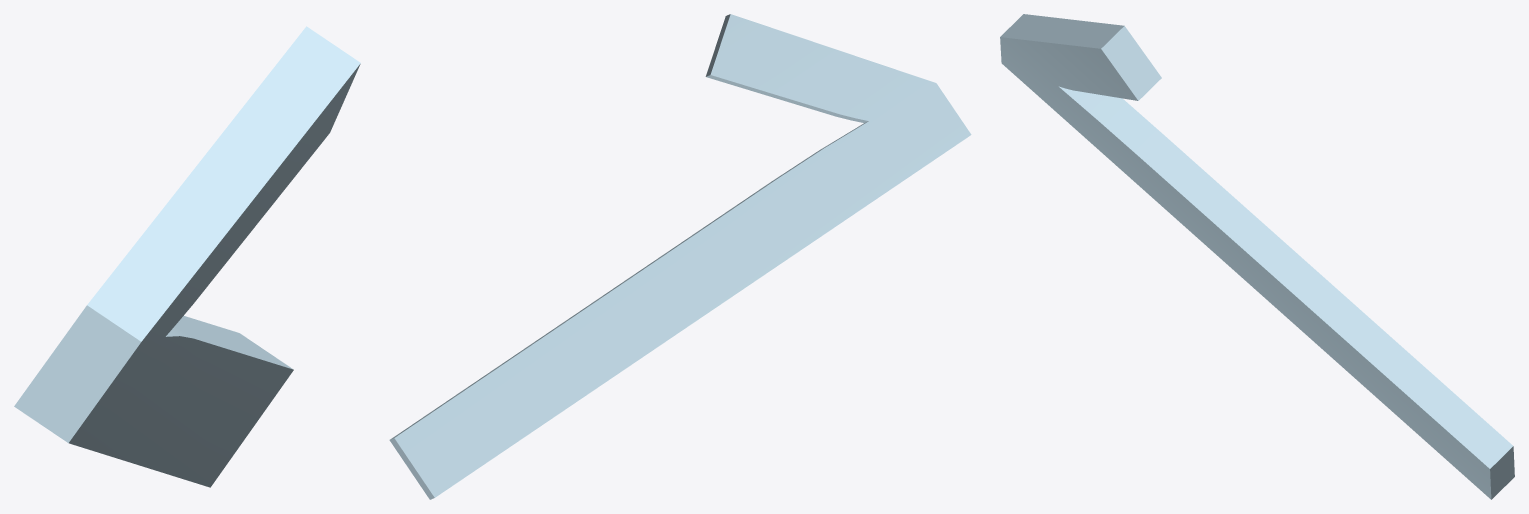
File: Number_1.gltf
The picture shows the model from 3 angles, left to right: view 1: azimuth 30°, elevation 25°; view 2: azimuth 150°, elevation 25°; view 3: azimuth 270°, elevation 25°; orthographic projection. The views are drawn at different scales.
Parts seen in each view (by area): view 1: Sub_4_Cell_2_3_Number_1; view 2: Sub_4_Cell_2_3_Number_1; view 3: Sub_4_Cell_2_3_Number_1.
Part boxes in pixels (box(x1,y1,x2,y2)): Sub_4_Cell_2_3_Number_1: box(14, 26, 360, 487); Sub_4_Cell_2_3_Number_1: box(389, 14, 971, 499); Sub_4_Cell_2_3_Number_1: box(1000, 14, 1514, 499).
Bounding box in the file's own units: 0.0161 × 0.0166 × 0.0189.
